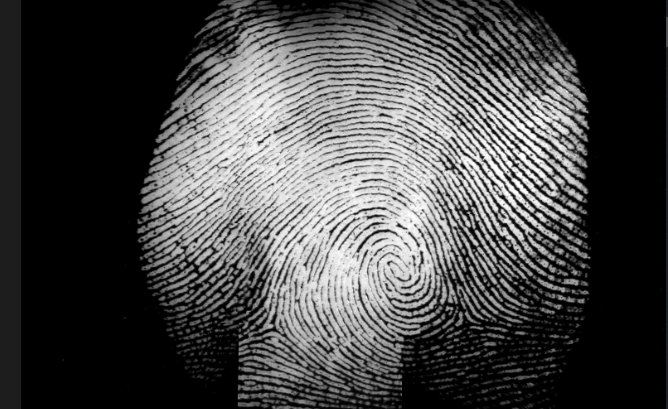deltas: (229, 289, 296, 341), (446, 291, 493, 335)
nucleo: (361, 229, 424, 290)
